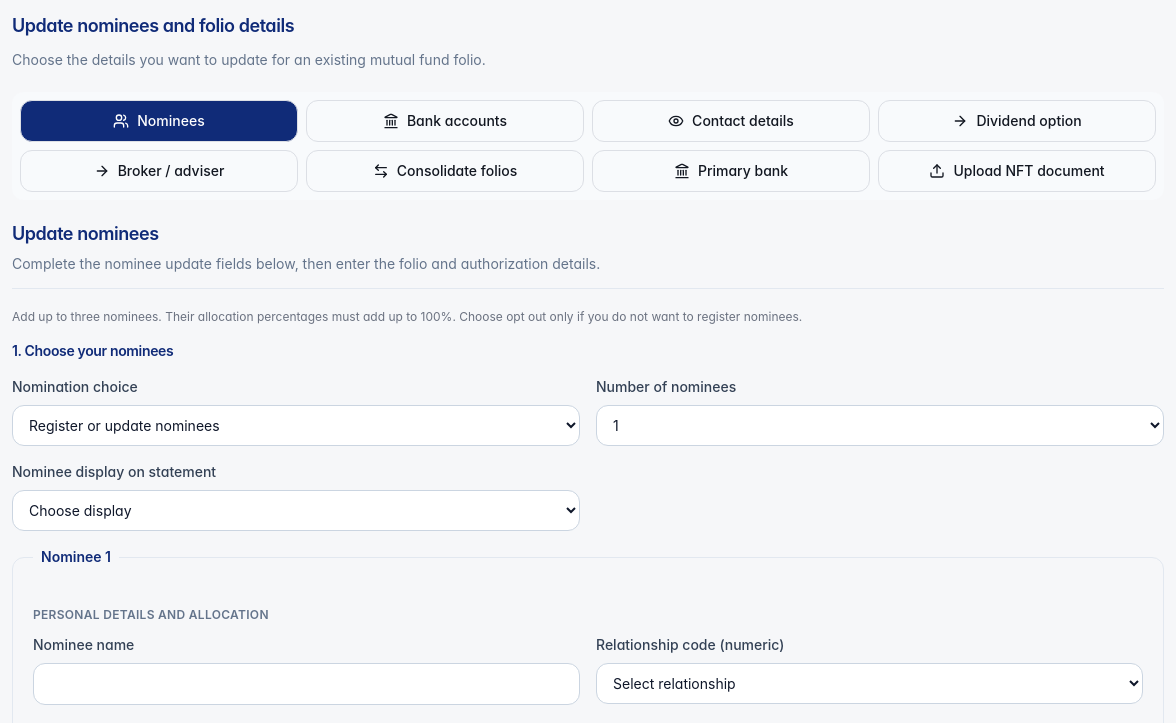
Scenario: switches embedded Bank accounts to its own update fields
Expected: the dropdown labelled "Nomination choice" is shown, [12, 405, 580, 446]
Click the button "Bank accounts": (445, 121) [306, 100, 584, 142]
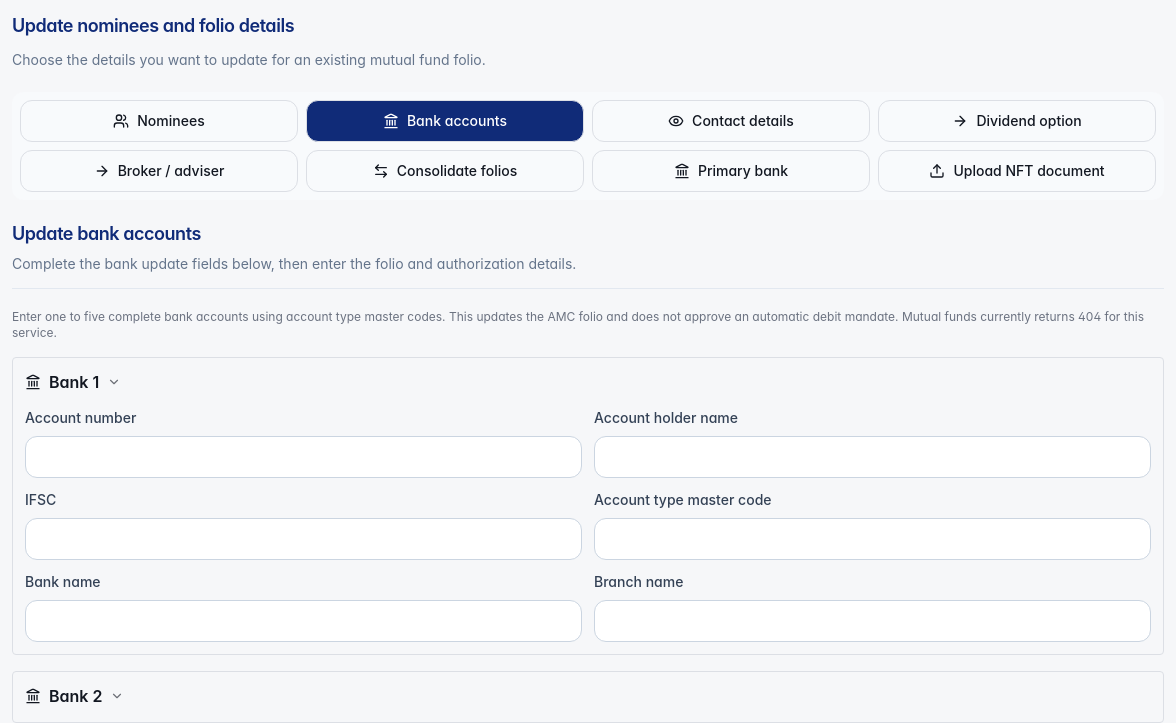
Result: the heading "Update bank accounts" is shown at [12, 223, 201, 244]
Result: the label labelled "Nomination choice" is gone
Click the button "Nominees": (159, 121) [20, 100, 298, 142]
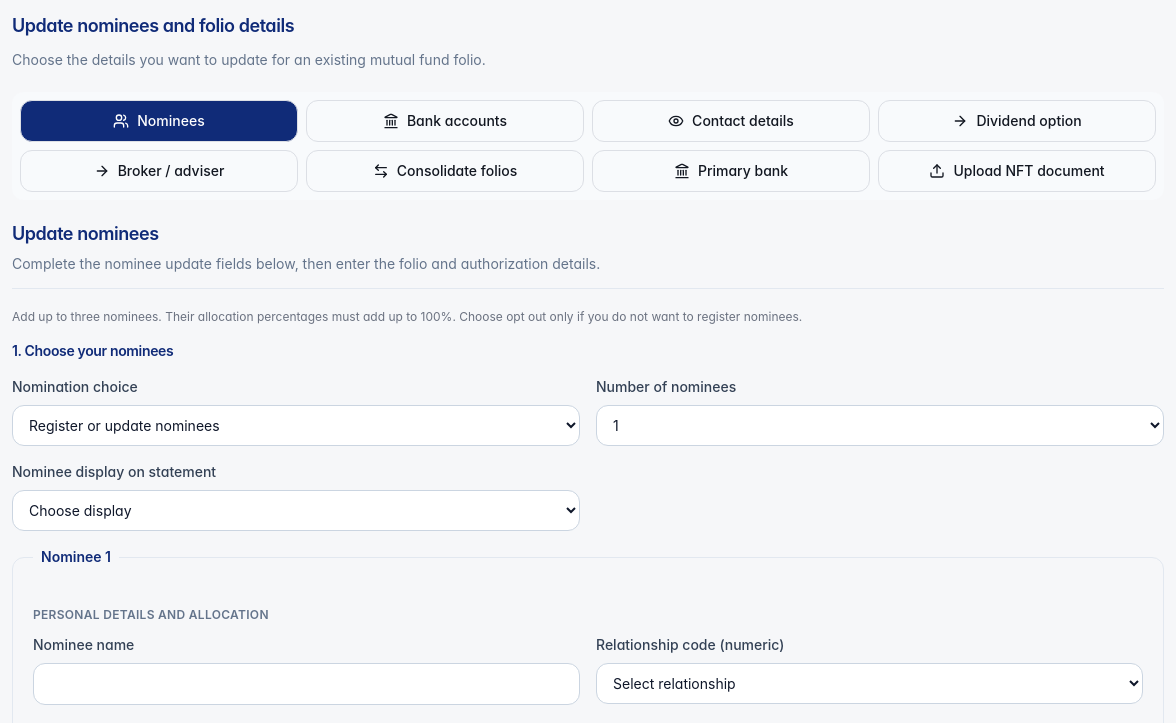
Result: the dropdown labelled "Nomination choice" is shown at [12, 405, 580, 446]
